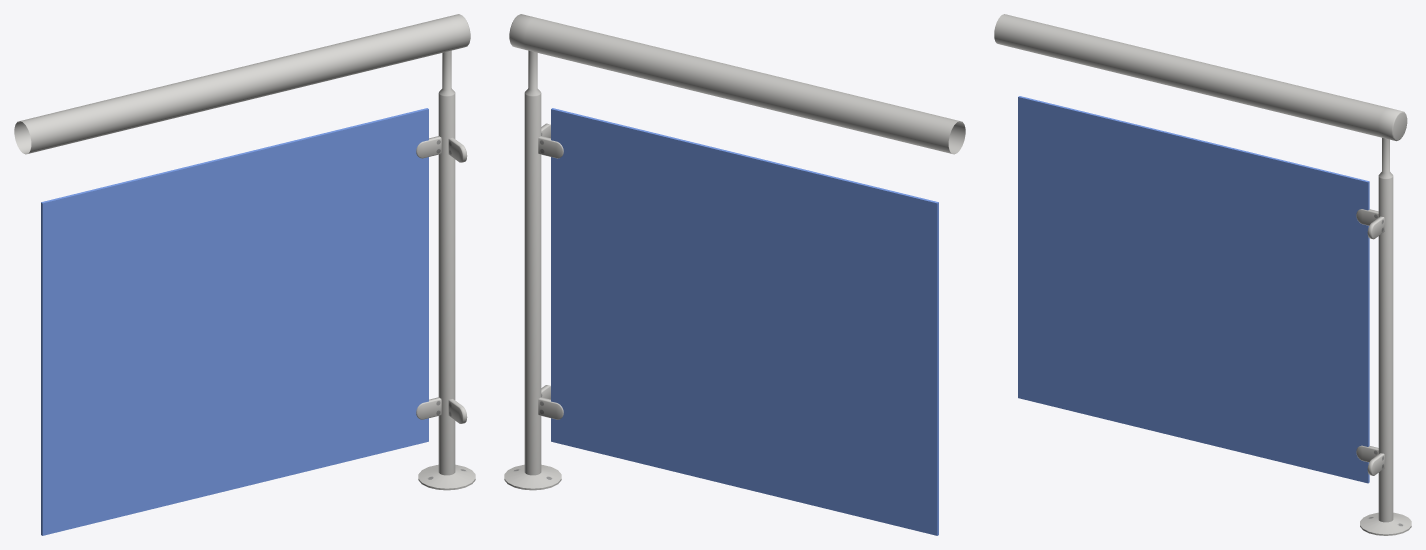
The model's file is Barrier01_5.FBX.
The picture shows the model from 3 angles, left to right: view 1: azimuth 30°, elevation 25°; view 2: azimuth 150°, elevation 25°; view 3: azimuth 330°, elevation 25°; orthographic projection. The views are drawn at different scales.
Visible parts, largest first — view 1: Glass, Metal; view 2: Glass, Metal; view 3: Glass, Metal.
Part boxes in pixels (x1=…): Glass: x1=41, y1=108, x2=428, y2=535; Metal: x1=14, y1=14, x2=475, y2=490; Glass: x1=551, y1=108, x2=938, y2=535; Metal: x1=504, y1=14, x2=965, y2=490; Glass: x1=1018, y1=96, x2=1369, y2=483; Metal: x1=994, y1=14, x2=1411, y2=535.
Size of the model in its own units: 106 by 103 by 13.3.
